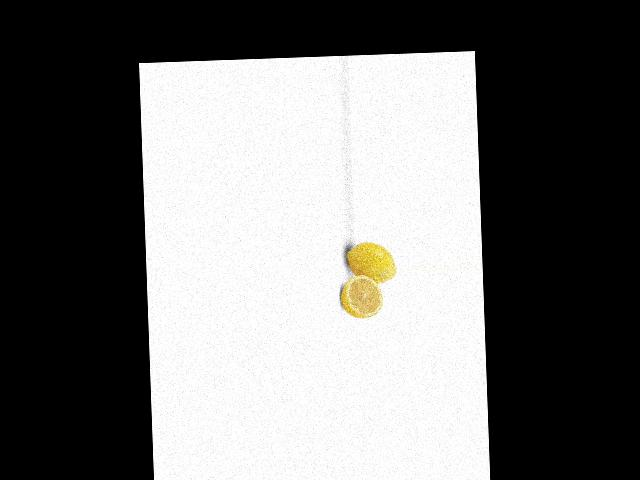lemon: (343, 238, 398, 287)
